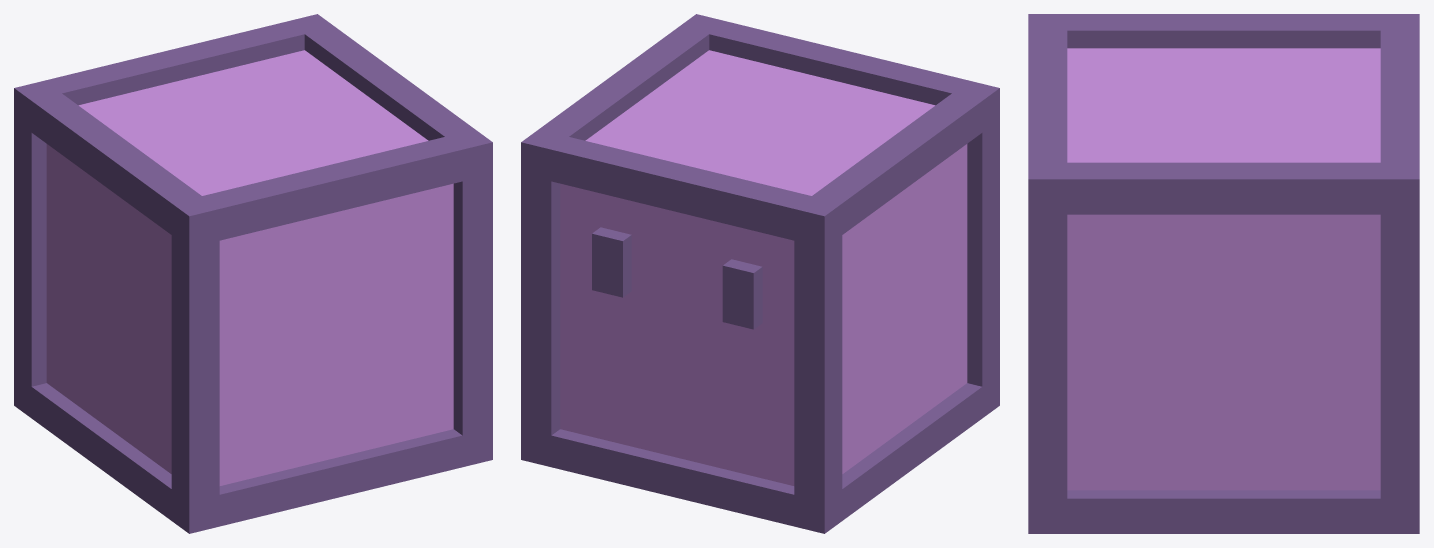
Rendered from player.glb.
The picture shows the model from 3 angles, left to right: view 1: azimuth 30°, elevation 25°; view 2: azimuth 150°, elevation 25°; view 3: azimuth 270°, elevation 25°; orthographic projection. The views are drawn at different scales.
Visible parts, largest first — view 1: Cube; view 2: Cube; view 3: Cube.
Boxes of the visible parts, bbox=[...] form: Cube: bbox=[14, 14, 492, 533]; Cube: bbox=[521, 14, 999, 533]; Cube: bbox=[1028, 14, 1419, 533].
Bounding box in the file's own units: 0.75 × 0.75 × 0.75.
